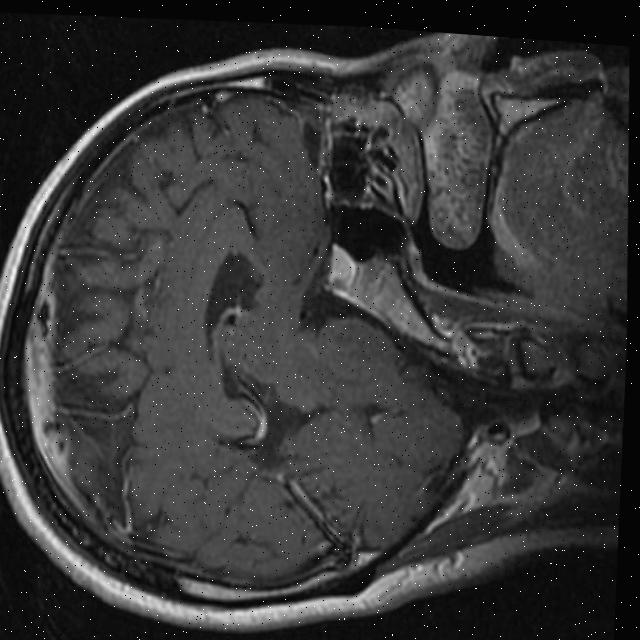Pituitary: (326, 238, 359, 293)
